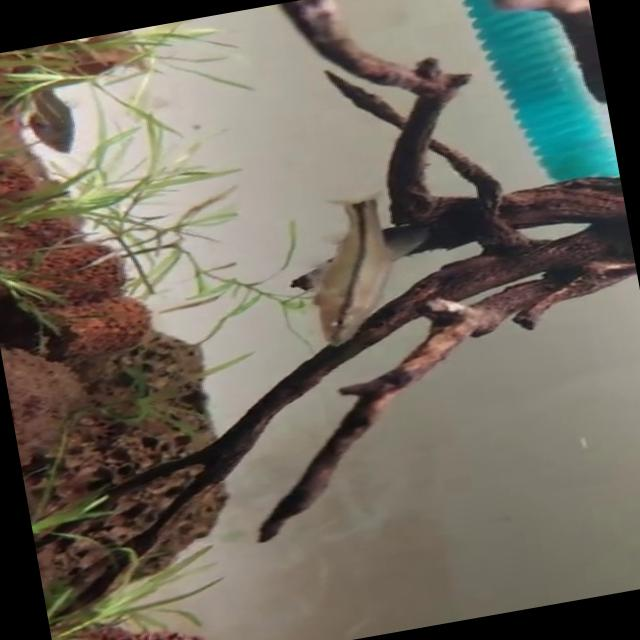Cakil Baligi: (275, 185, 449, 349)
